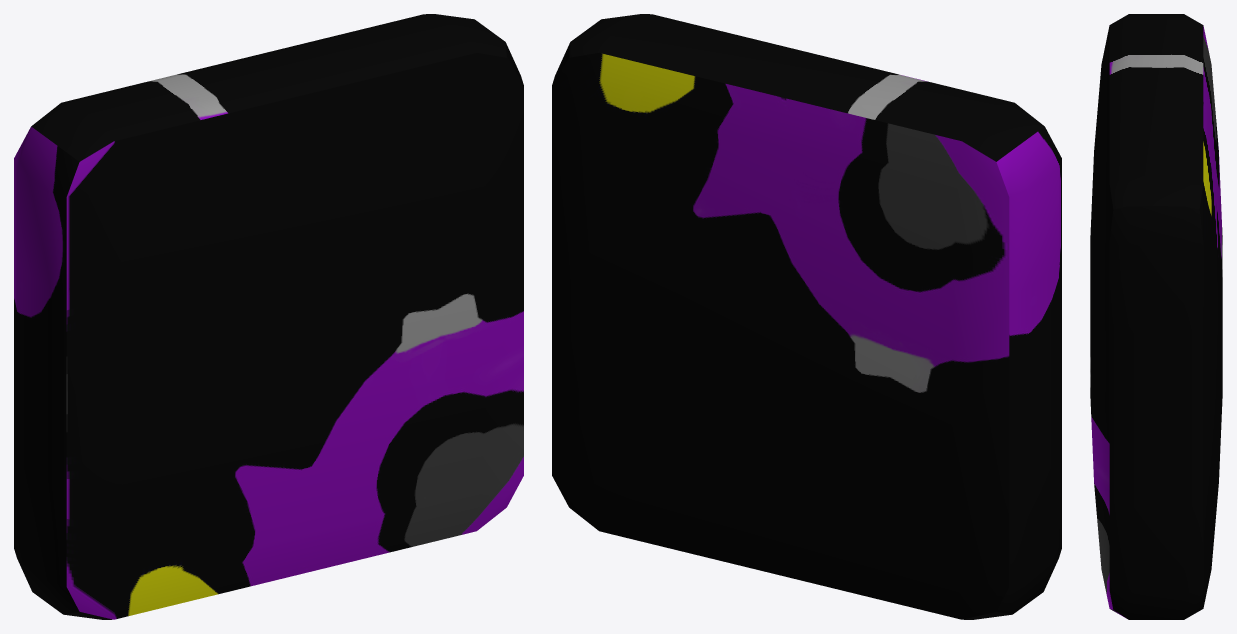
Rendered from mod_powerup.obj.
3 views of the same model, side by side, from view 1: azimuth 30°, elevation 25°; view 2: azimuth 150°, elevation 25°; view 3: azimuth 270°, elevation 25° (orthographic). The views are drawn at different scales.
Visible parts, largest first — view 1: powerup; view 2: powerup; view 3: powerup.
Part boxes in pixels (box(x1,y1,x2,y2)): powerup: box(14, 14, 523, 619); powerup: box(552, 14, 1061, 619); powerup: box(1090, 14, 1222, 619).
Bounding box in the file's own units: 1 × 1 × 0.272.
